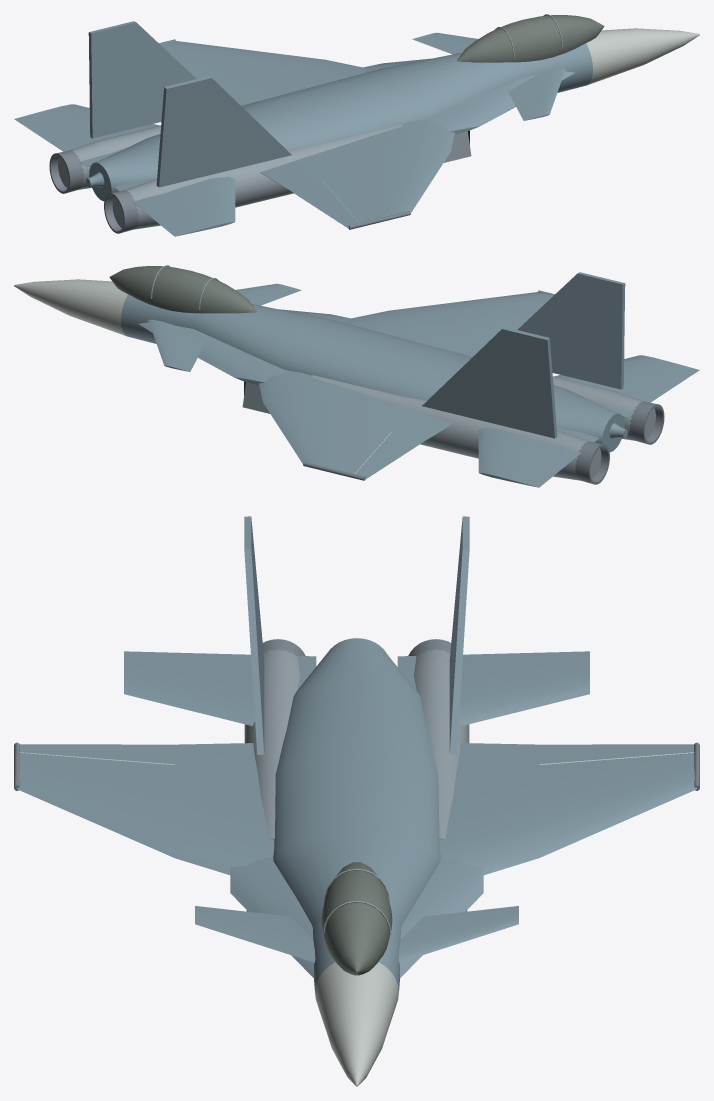
Rendered from rfn_strike_su30sm.glb.
3 views of the same model, one above another, from view 1: azimuth 30°, elevation 25°; view 2: azimuth 150°, elevation 25°; view 3: azimuth 270°, elevation 25° (orthographic). The views are drawn at different scales.
Visible parts, largest first — view 1: airframe_blue, airframe, canopy_gold, array_face, titanium; view 2: airframe_blue, airframe, canopy_gold, array_face, titanium; view 3: airframe_blue, airframe, array_face, canopy_gold, titanium.
Boxes of the visible parts, bbox=[...] form: airframe_blue: bbox=[14, 21, 592, 236]; airframe: bbox=[58, 14, 562, 229]; canopy_gold: bbox=[457, 15, 604, 62]; array_face: bbox=[322, 28, 699, 223]; titanium: bbox=[49, 39, 410, 233]; airframe_blue: bbox=[121, 272, 699, 487]; airframe: bbox=[151, 265, 655, 480]; canopy_gold: bbox=[109, 266, 256, 313]; array_face: bbox=[14, 279, 391, 474]; titanium: bbox=[303, 290, 664, 484]; airframe_blue: bbox=[17, 516, 696, 991]; airframe: bbox=[244, 649, 469, 934]; array_face: bbox=[19, 752, 694, 1086]; canopy_gold: bbox=[321, 862, 392, 975]; titanium: bbox=[14, 639, 699, 790].
Size of the model in its own units: 10 by 2.25 by 6.69.
